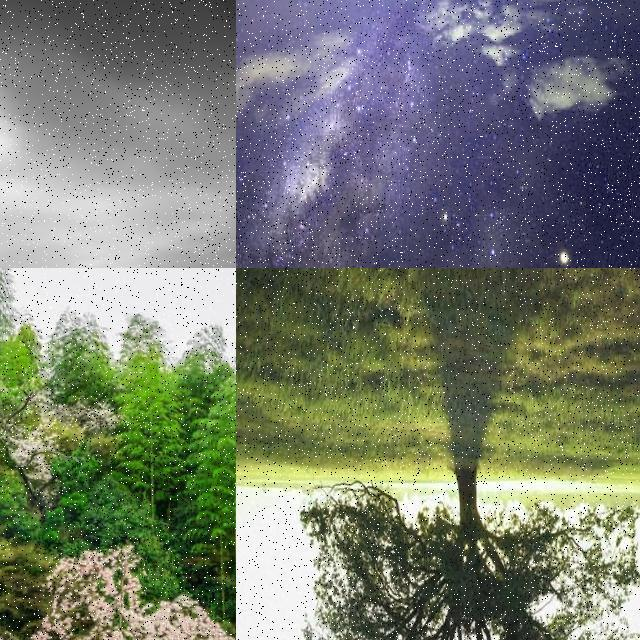tree: (294, 474, 640, 640), (0, 531, 236, 640), (184, 369, 236, 583), (119, 368, 183, 497), (0, 168, 52, 268), (375, 0, 423, 38)
